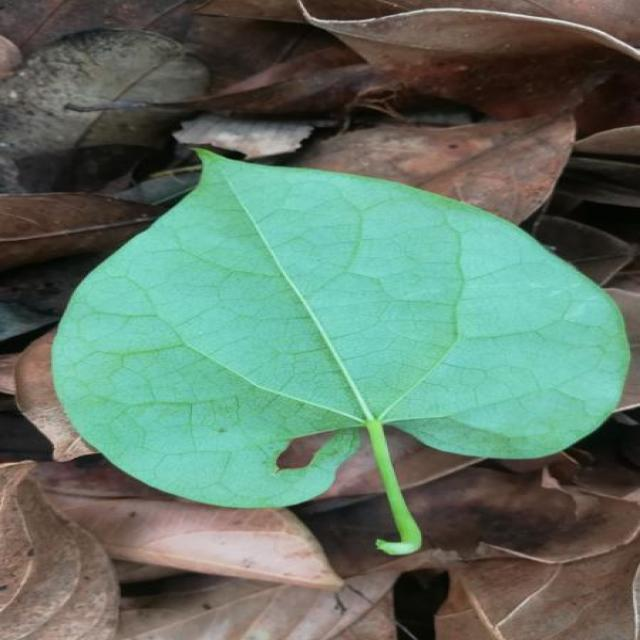Amruthaballi: (20, 151, 628, 554), (40, 464, 340, 588), (338, 118, 573, 219)
